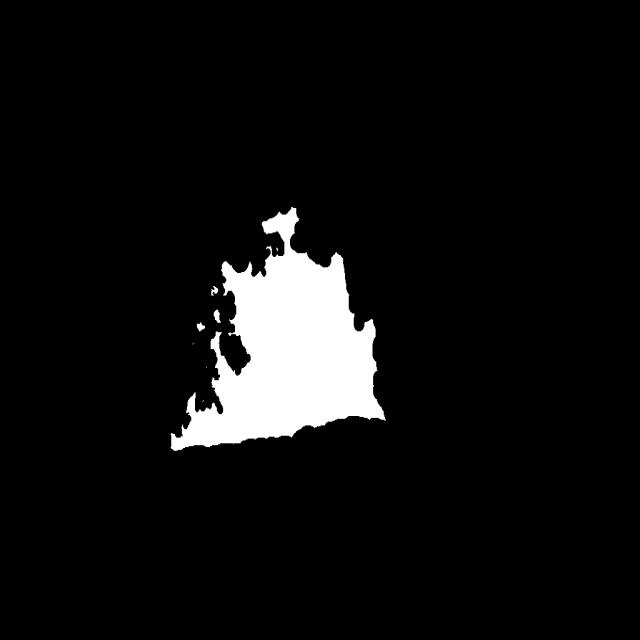fire: (148, 185, 412, 472)
